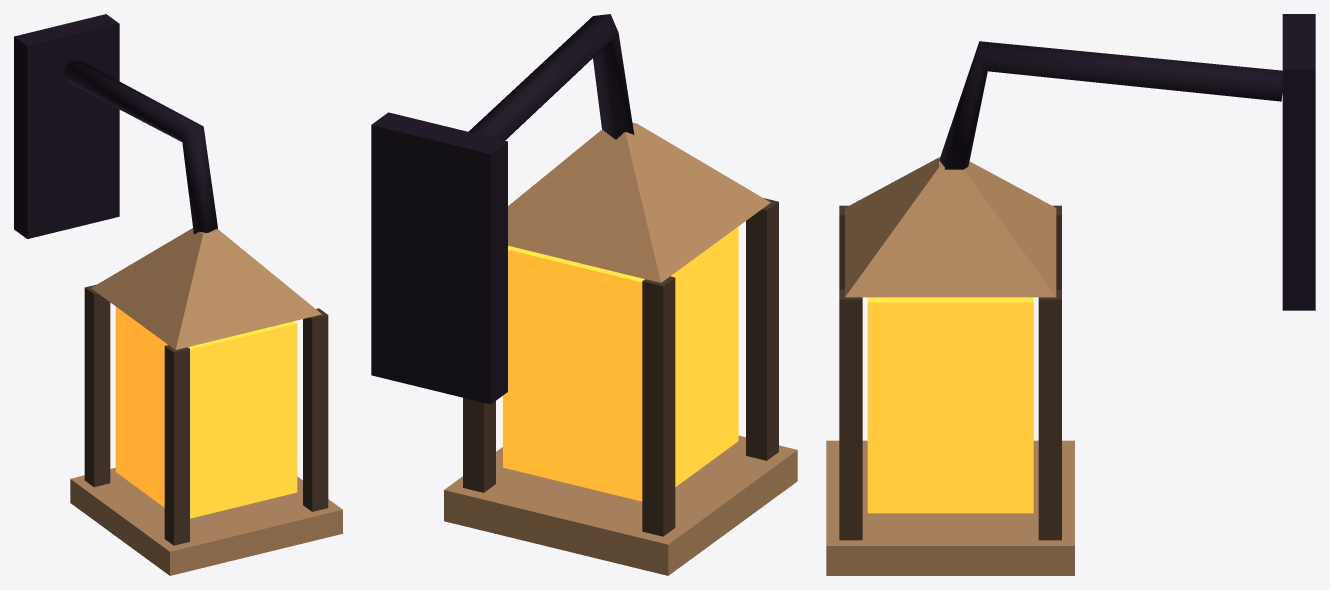
Rendered from lantern_bracket.glb.
The picture shows the model from 3 angles, left to right: view 1: azimuth 30°, elevation 25°; view 2: azimuth 150°, elevation 25°; view 3: azimuth 270°, elevation 25°; orthographic projection. The views are drawn at different scales.
Visible parts, largest first — view 1: lantern_bracket; view 2: lantern_bracket; view 3: lantern_bracket.
Boxes of the visible parts, box(x1,y1,x2,y2) form: lantern_bracket: box(14, 14, 342, 575); lantern_bracket: box(371, 14, 797, 575); lantern_bracket: box(826, 14, 1315, 575).
Bounding box in the file's own units: 0.15 × 0.32 × 0.295.
